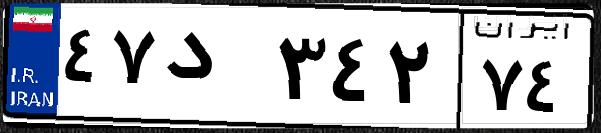2: (385, 28, 445, 110)
3: (270, 28, 330, 110)
4: (330, 28, 385, 110), (57, 26, 110, 100), (525, 38, 570, 115)
7: (475, 38, 525, 113), (110, 28, 158, 98)
د: (158, 20, 270, 120)
